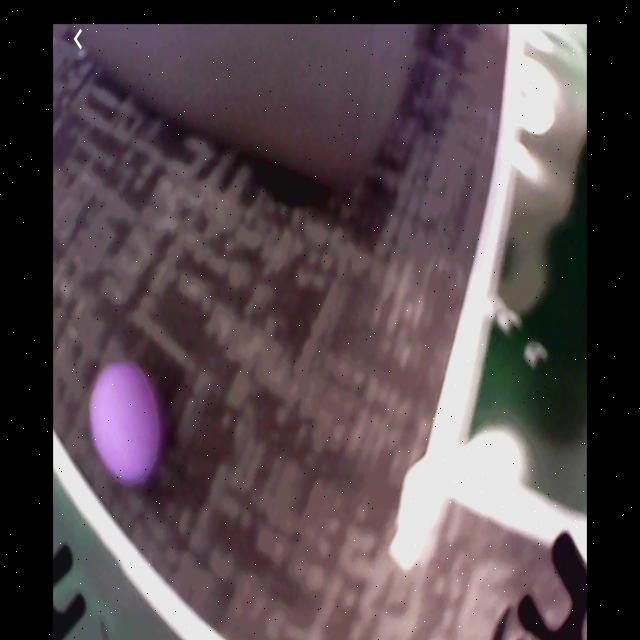ball: (90, 363, 161, 485)
